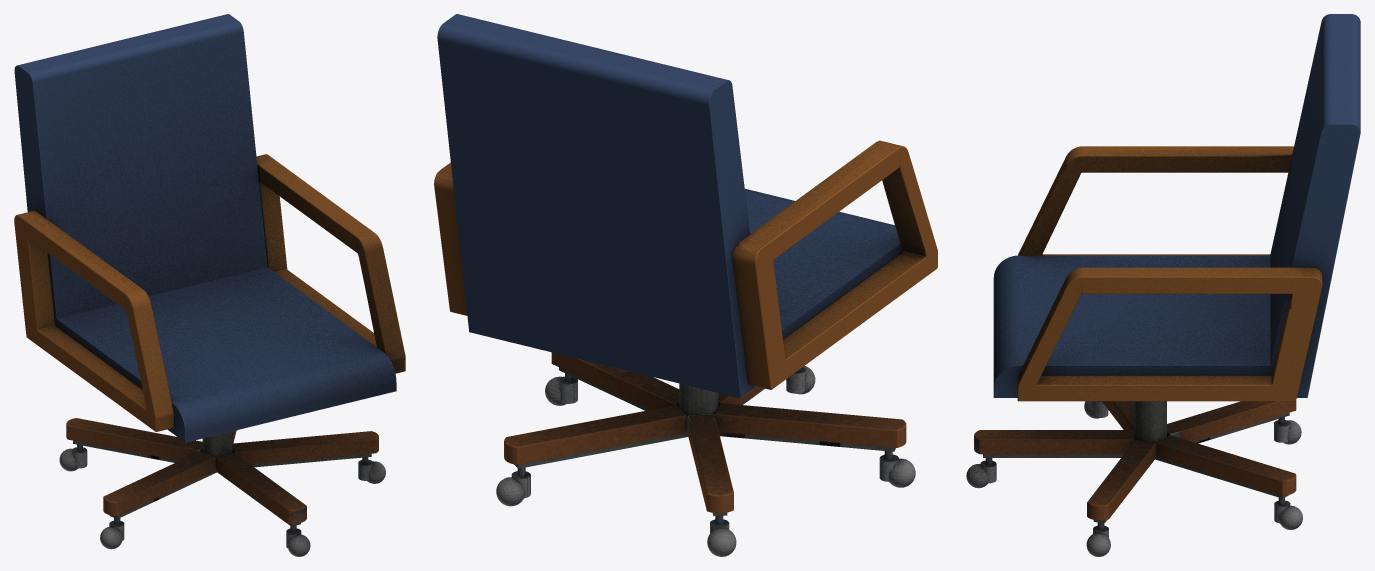
Rendered from bluedeskchair.dae.
3 views of the same model, side by side, from view 1: azimuth 30°, elevation 25°; view 2: azimuth 150°, elevation 25°; view 3: azimuth 270°, elevation 25° (orthographic). The views are drawn at different scales.
Visible parts, largest first — view 1: chair-combined-seat, chair-combined-base; view 2: chair-combined-seat, chair-combined-base; view 3: chair-combined-seat, chair-combined-base.
Part boxes in pixels (x1,y1,x2,y2): chair-combined-seat: (14, 14, 405, 442); chair-combined-base: (59, 418, 385, 556); chair-combined-seat: (434, 14, 937, 398); chair-combined-base: (496, 352, 915, 556); chair-combined-seat: (993, 14, 1360, 401); chair-combined-base: (966, 400, 1302, 556).
Size of what is drawn, in the model's own units: 0.9585 by 1.07 by 1.25.
3 materials, 1 textured.
